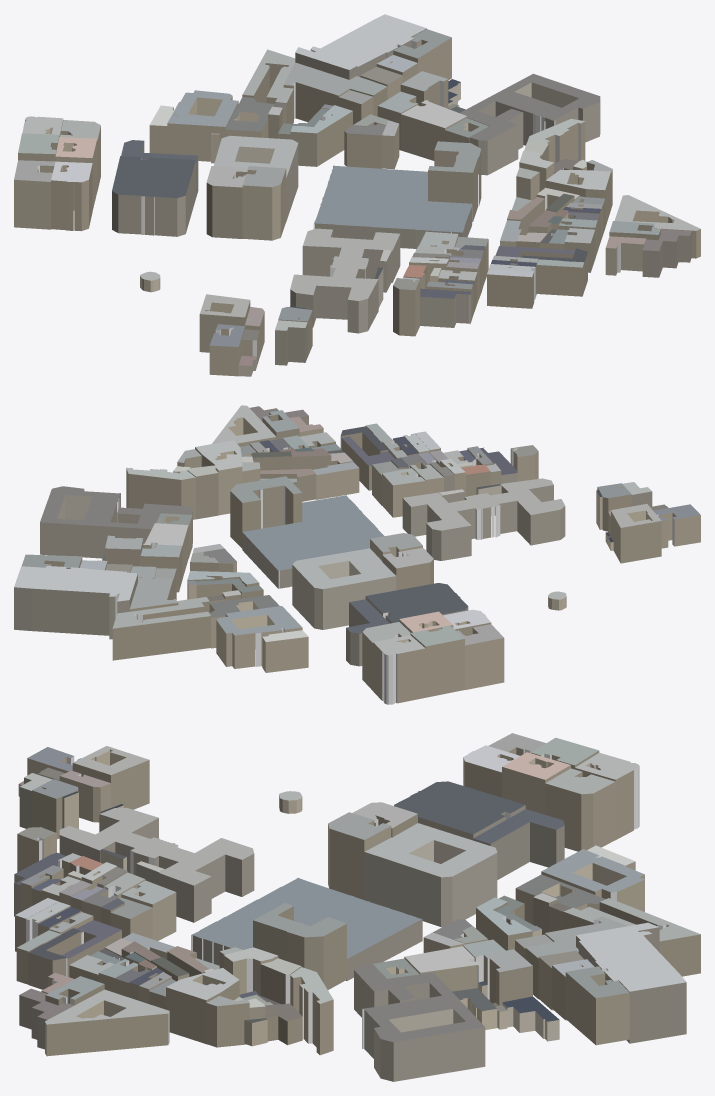
3 renders of one model, top to bottom at view 1: azimuth 30°, elevation 25°; view 2: azimuth 150°, elevation 25°; view 3: azimuth 270°, elevation 25°, orthographic. The views are drawn at different scales.
Parts seen in each view (by area): view 1: tuile; view 2: tuile; view 3: tuile.
Part boxes in pixels (x1,y1,x2,y2): tuile: (14,14,700,376); tuile: (14,405,700,704); tuile: (14,733,700,1081).
Bounding box in the file's own units: 297 × 29.14 × 285.
